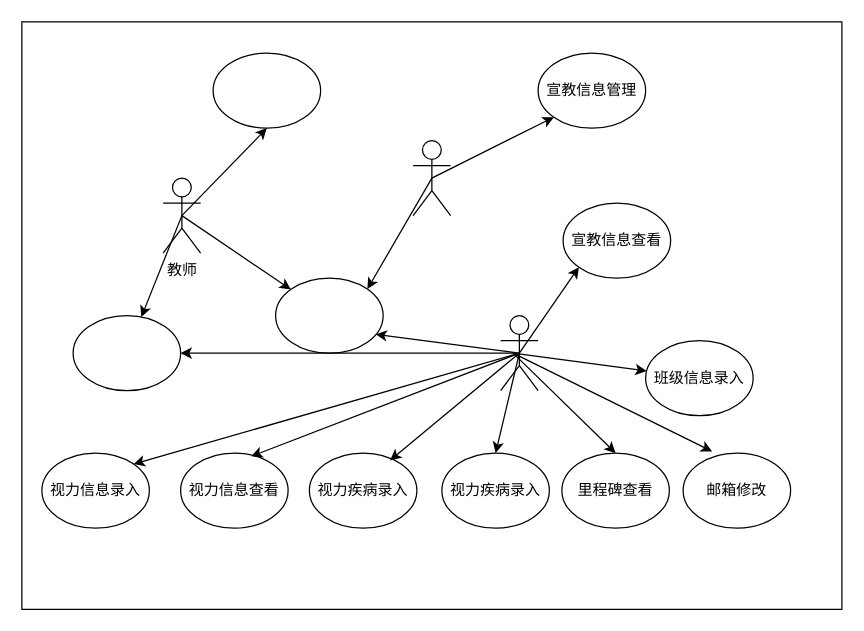
This 864x631 diagram has some shape labels left out. The shapes that lost their labels are listed below. From the top down, each one's centre as x and y in pixels, then its label:
At (x=266, y=90): "班级管理管理".
At (x=431, y=177): "管理员".
At (x=328, y=315): "注册登录".
At (x=126, y=352): "密码修改".
At (x=518, y=352): "用户".
